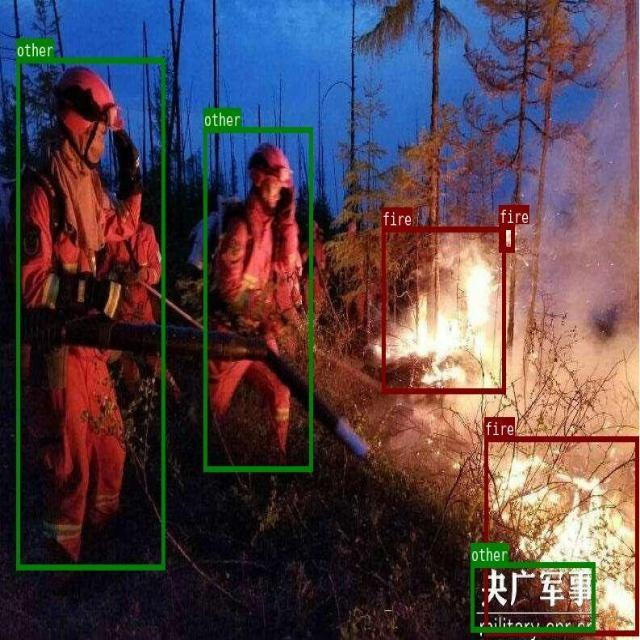fire: (484, 435, 638, 635), (381, 226, 505, 393), (498, 223, 514, 251)
